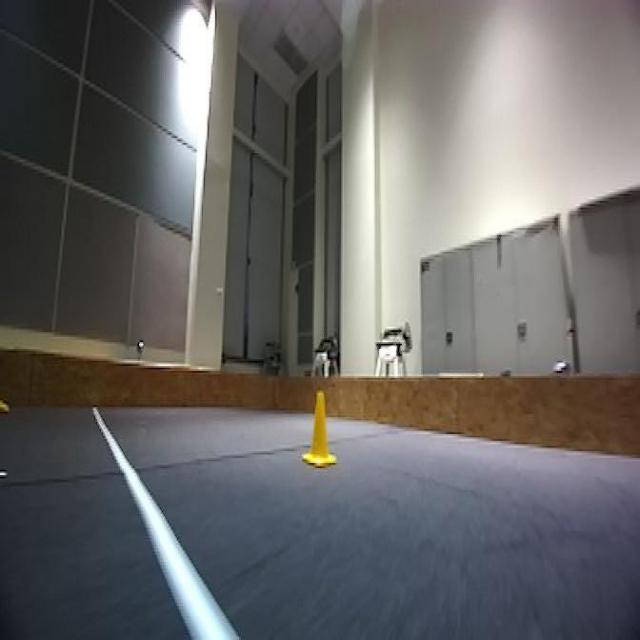frc_cone: (305, 393, 340, 468)
